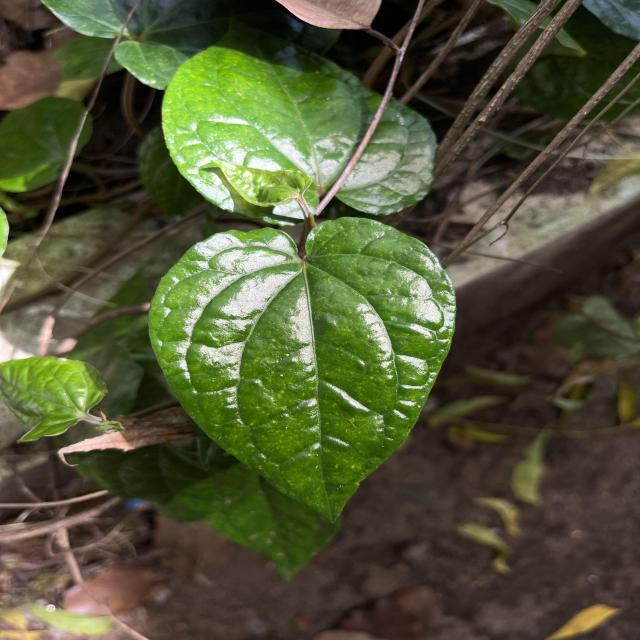Piper betle: (143, 212, 460, 528)
